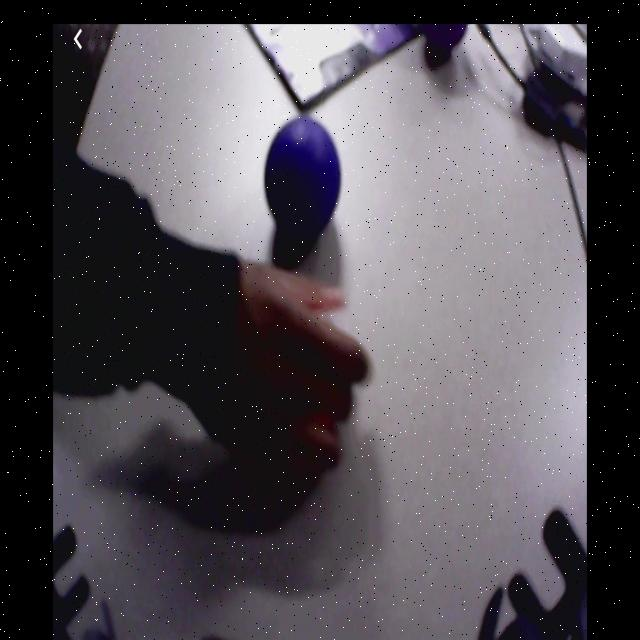ball: (264, 119, 341, 232), (425, 23, 468, 54)
